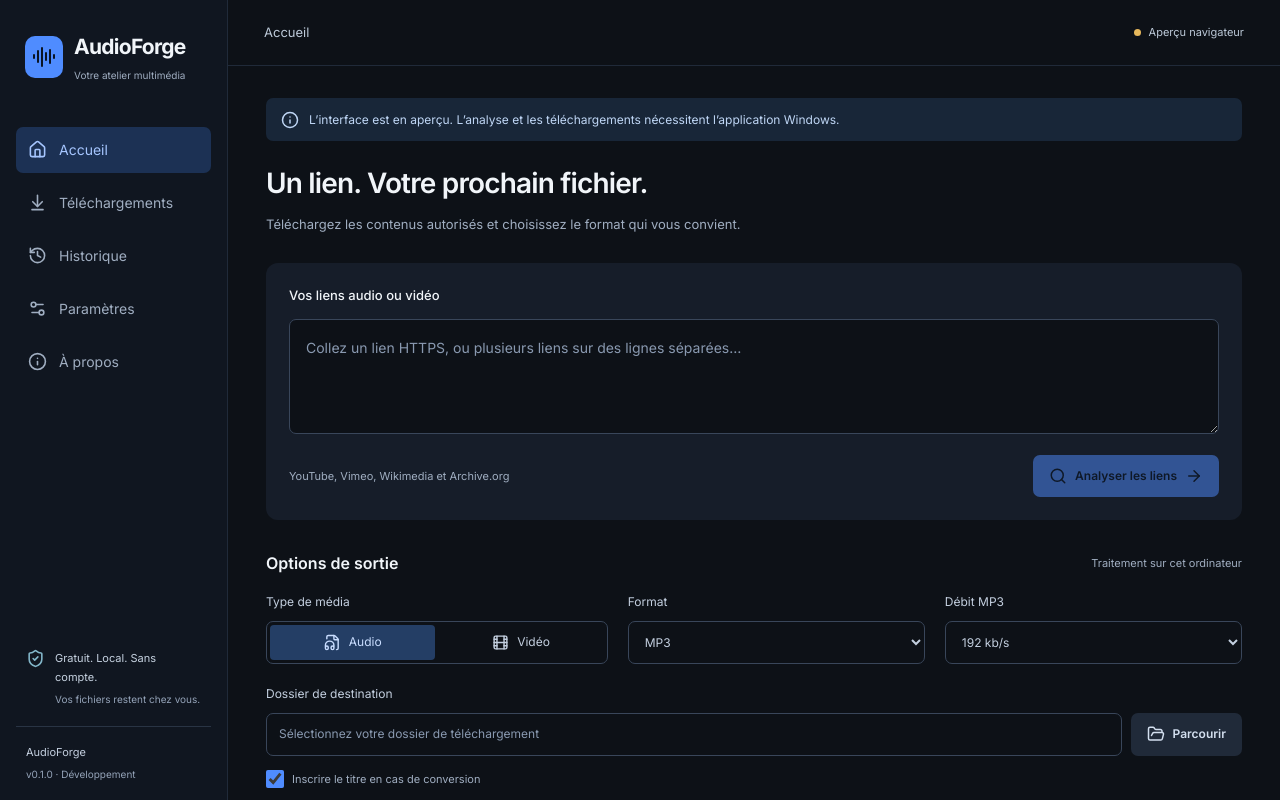
Scenario: interface en aperçu › rejette un lien local avant tout appel natif
Type "https://127.0.0.1" into the text box labelled "Vos liens audio ou vidéo".
click(754, 376); type("https://127.0.0.1")  # box [289,319,1219,434]
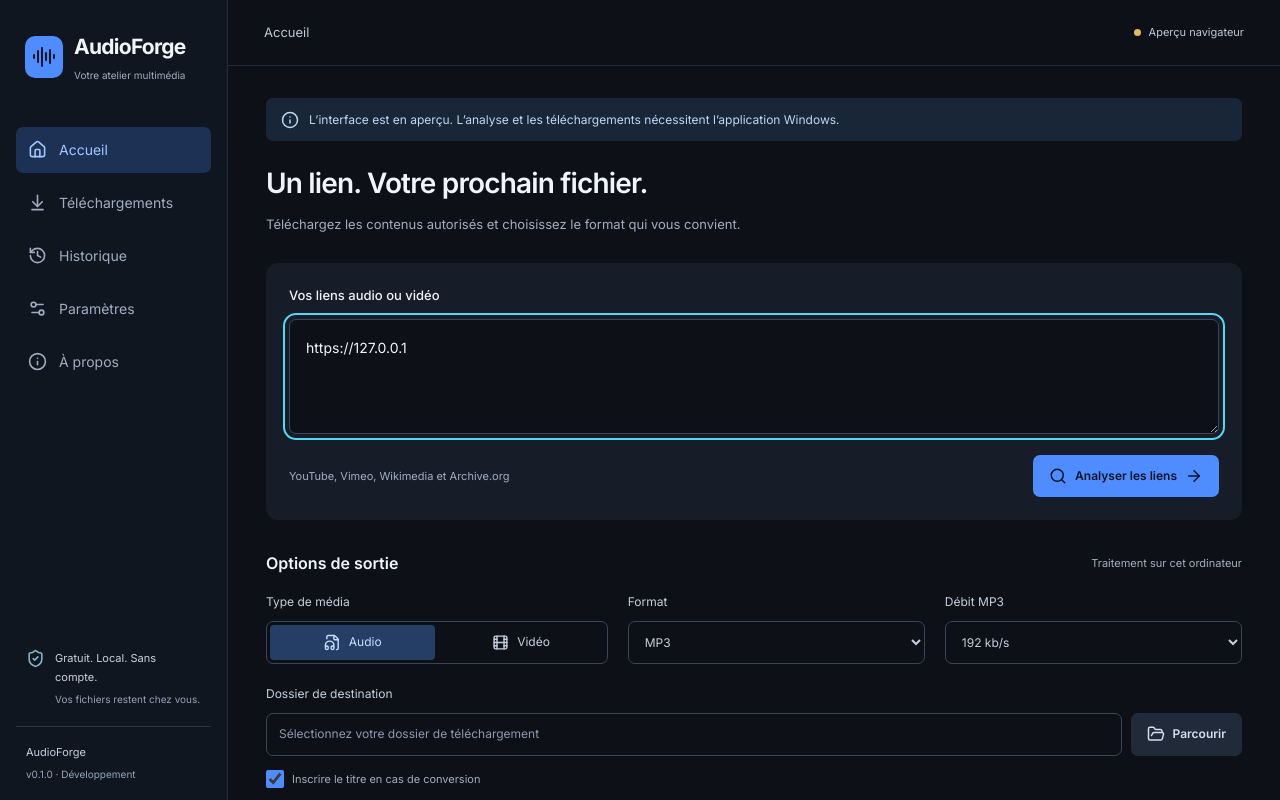
Click the button "Analyser les liens".
click(1126, 476)  # box [1033,455,1219,497]
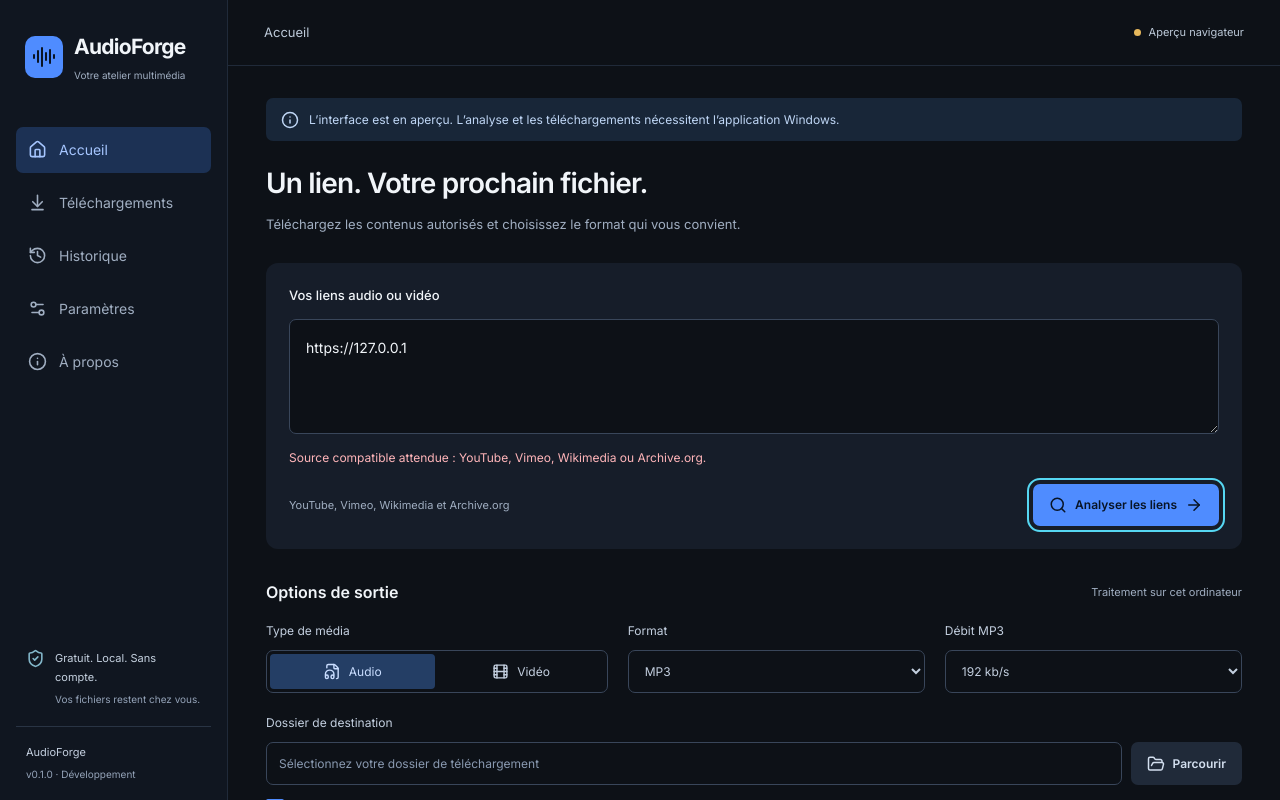
Result: the message shows "Source compatible attendue" at [289,450,706,465]
